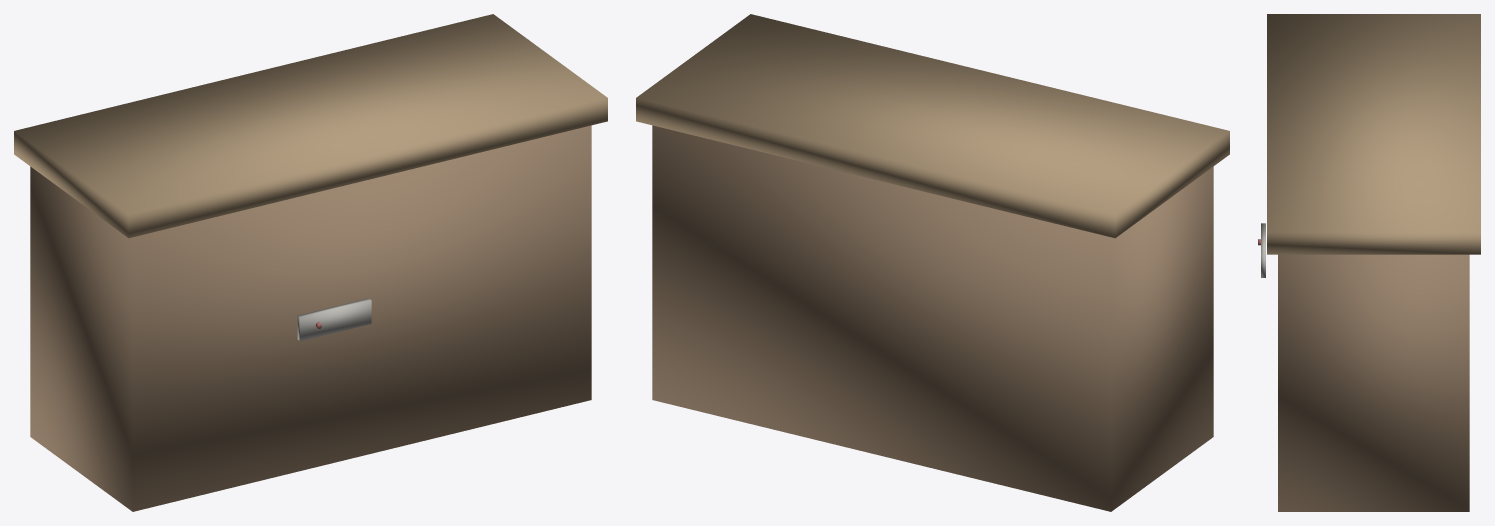
File: bagging_stand__compact.glb
3 renders of one model, left to right at view 1: azimuth 30°, elevation 25°; view 2: azimuth 150°, elevation 25°; view 3: azimuth 270°, elevation 25°, orthographic. The views are drawn at different scales.
Parts seen in each view (by area): view 1: world; view 2: world; view 3: world.
Boxes of the visible parts, left/top/right/bottom form: world: left=14, top=14, right=607, bottom=511; world: left=636, top=14, right=1229, bottom=511; world: left=1258, top=14, right=1480, bottom=511.
Bounding box in the file's own units: 1.58 × 0.9579 × 0.6803.
